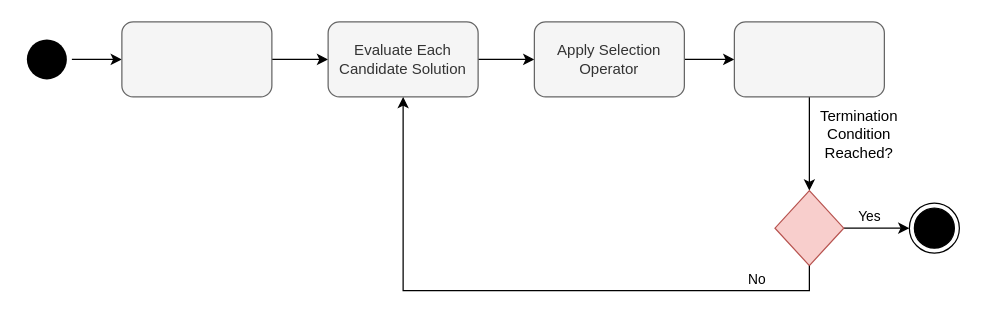
The diagram is 981 pixels wide and 323 high, and some of its shapes have lost their labels. The shapes that lost their labels are listed below. From the top down, each one's box as (x1, y1, x2, y2) in pixels, then its label:
(121, 21, 272, 97): Initialise Population
(733, 21, 884, 97): Apply Genetic Operator
